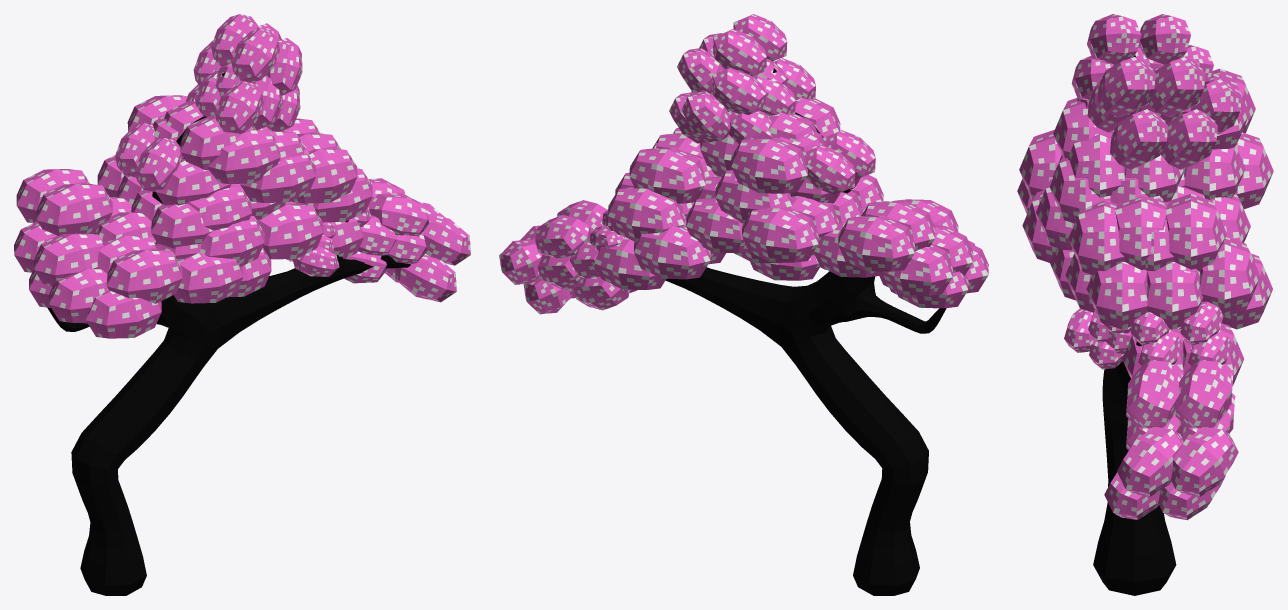
Rendered from BonsaiLowPoly.fbx.
3 views of the same model, side by side, from view 1: azimuth 30°, elevation 25°; view 2: azimuth 150°, elevation 25°; view 3: azimuth 270°, elevation 25° (orthographic). The views are drawn at different scales.
Parts seen in each view (by area): view 1: Leafs2, Tree, Leafs; view 2: Leafs, Tree, Leafs2; view 3: Leafs2, Leafs, Tree.
Boxes of the visible parts, bbox=[...] form: Leafs2: bbox=[34, 28, 470, 338]; Tree: bbox=[47, 72, 410, 595]; Leafs: bbox=[14, 14, 445, 323]; Leafs: bbox=[499, 29, 968, 314]; Tree: bbox=[665, 68, 946, 595]; Leafs2: bbox=[520, 14, 988, 298]; Leafs2: bbox=[1017, 14, 1197, 520]; Leafs: bbox=[1110, 14, 1273, 520]; Tree: bbox=[1093, 55, 1176, 595].
Size of the model in its own units: 1466 by 1690 by 597.
